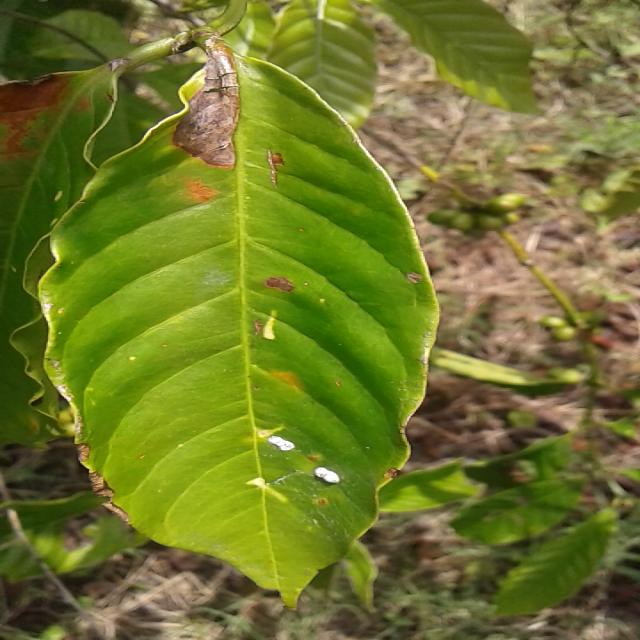Enfermedad-Roya: (52, 48, 436, 610)
